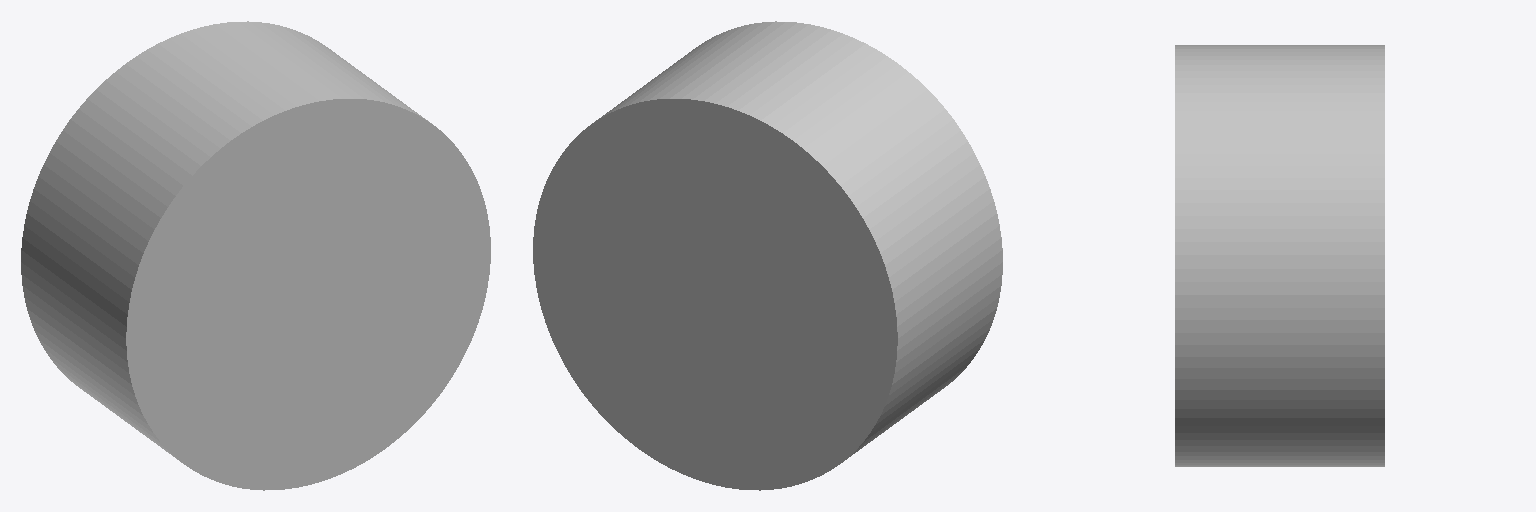
The model's file is Wheel.obj.
3 views of the same model, side by side, from view 1: azimuth 30°, elevation 25°; view 2: azimuth 150°, elevation 25°; view 3: azimuth 270°, elevation 25° (orthographic).
Size of the model in its own units: 2 by 2 by 1.